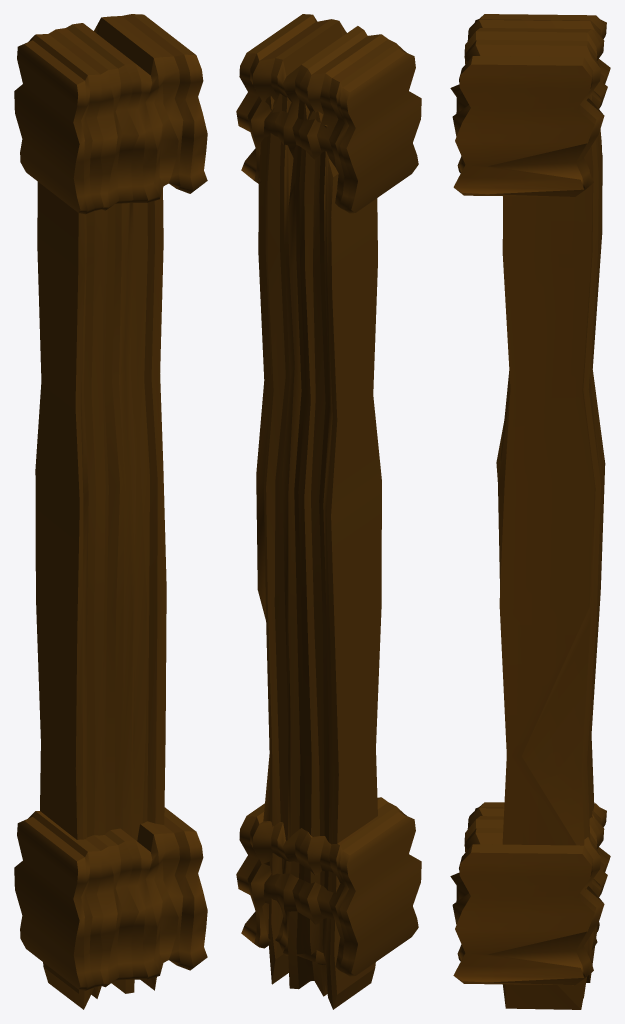
The model's file is SRWoodPillar.fbx.
The picture shows the model from 3 angles, left to right: view 1: azimuth 30°, elevation 25°; view 2: azimuth 150°, elevation 25°; view 3: azimuth 270°, elevation 25°; orthographic projection. The views are drawn at different scales.
Visible parts, largest first — view 1: WoodWallPillar; view 2: WoodWallPillar; view 3: WoodWallPillar.
Boxes of the visible parts, box(x1,y1,x2,y2) form: WoodWallPillar: box(14, 14, 207, 1009); WoodWallPillar: box(236, 14, 421, 1009); WoodWallPillar: box(450, 14, 610, 1009).
Size of the model in its own units: 0.4467 by 3.14 by 0.4715.
